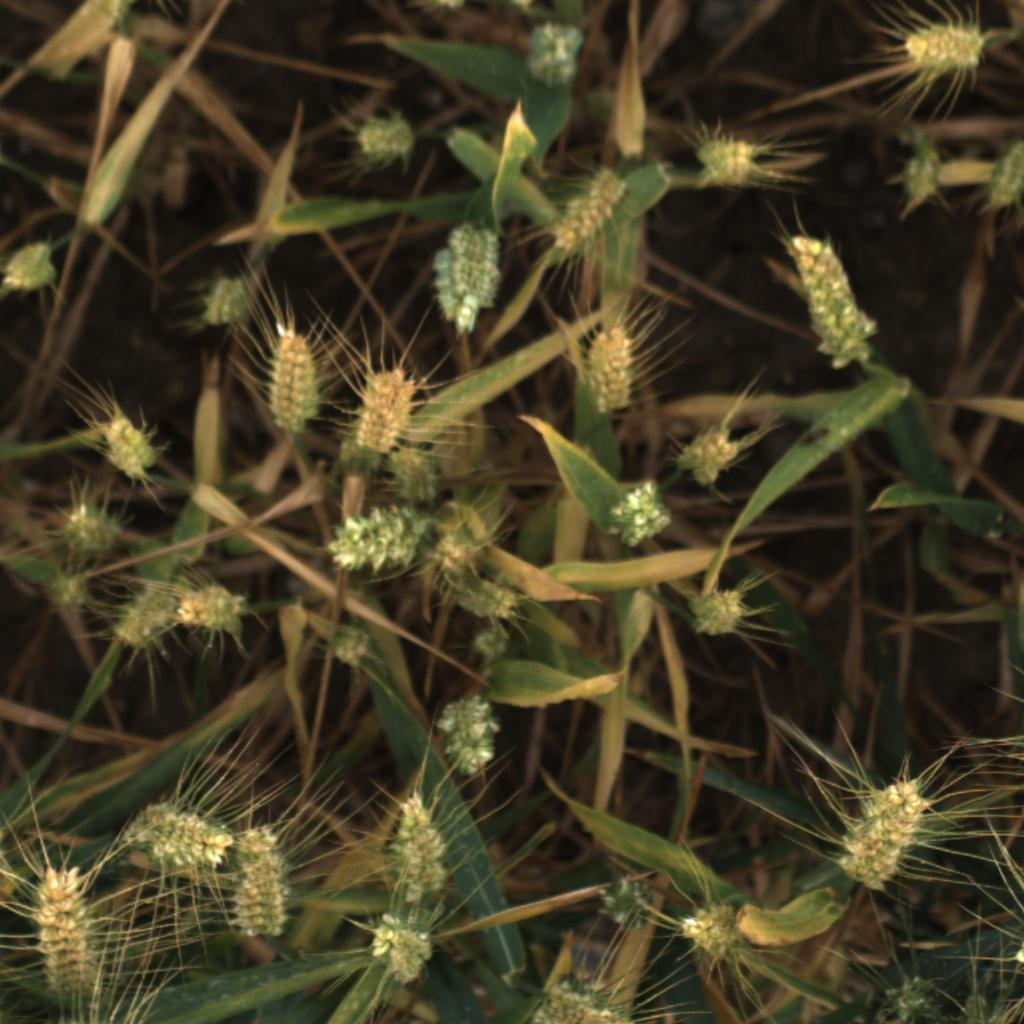0-0: (781, 226, 877, 370), (833, 772, 930, 893), (28, 862, 99, 1010), (227, 823, 295, 948), (122, 803, 237, 873), (548, 167, 630, 261), (386, 792, 452, 903), (326, 504, 423, 578), (259, 328, 324, 437), (343, 364, 420, 452), (428, 240, 492, 342), (426, 693, 499, 777), (363, 909, 439, 988), (580, 318, 641, 415), (897, 17, 989, 81), (601, 475, 676, 548), (522, 14, 591, 93), (94, 412, 165, 486), (175, 578, 252, 643), (49, 498, 126, 562), (535, 979, 640, 1024), (118, 583, 176, 662), (676, 420, 741, 490), (672, 902, 746, 961), (448, 225, 503, 304), (446, 575, 530, 625), (692, 132, 761, 192), (348, 110, 422, 165), (384, 441, 442, 511), (589, 876, 656, 933), (878, 969, 947, 1024), (690, 582, 750, 643), (971, 145, 1024, 214), (0, 239, 59, 299), (199, 272, 254, 336), (326, 621, 382, 674), (892, 152, 944, 209), (430, 522, 484, 575), (44, 566, 95, 617), (466, 626, 505, 662)
